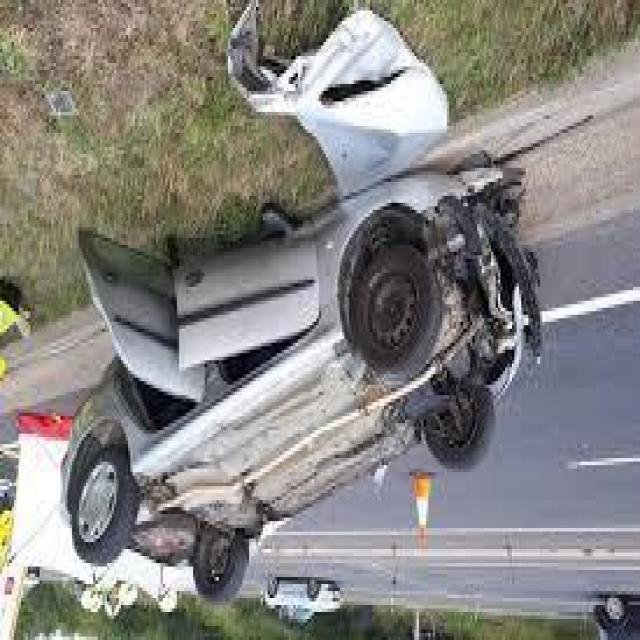severe: (53, 154, 550, 605)
